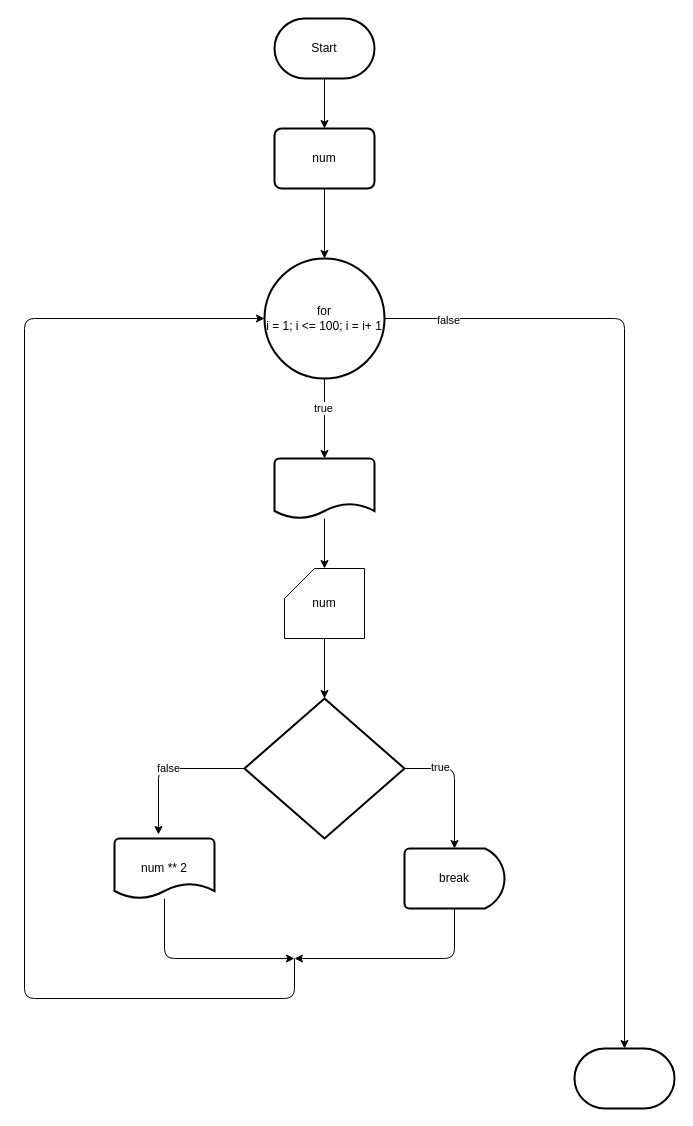
This 693x1126 diagram has some shape labels left out. The box of each missing label's shape, as (x1, y1, x2, y2) in pixels:
"Enter number": (273, 457, 375, 519)
num == 13 || num == 666: (243, 697, 405, 839)
Stop: (573, 1047, 675, 1109)
